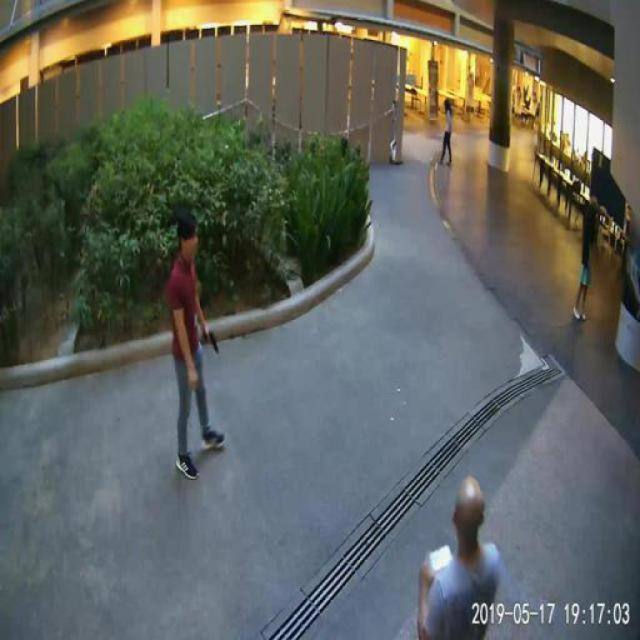pistol: (202, 328, 216, 352)
